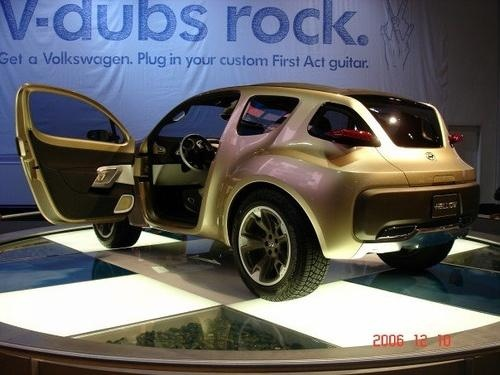car: (15, 82, 483, 303)
